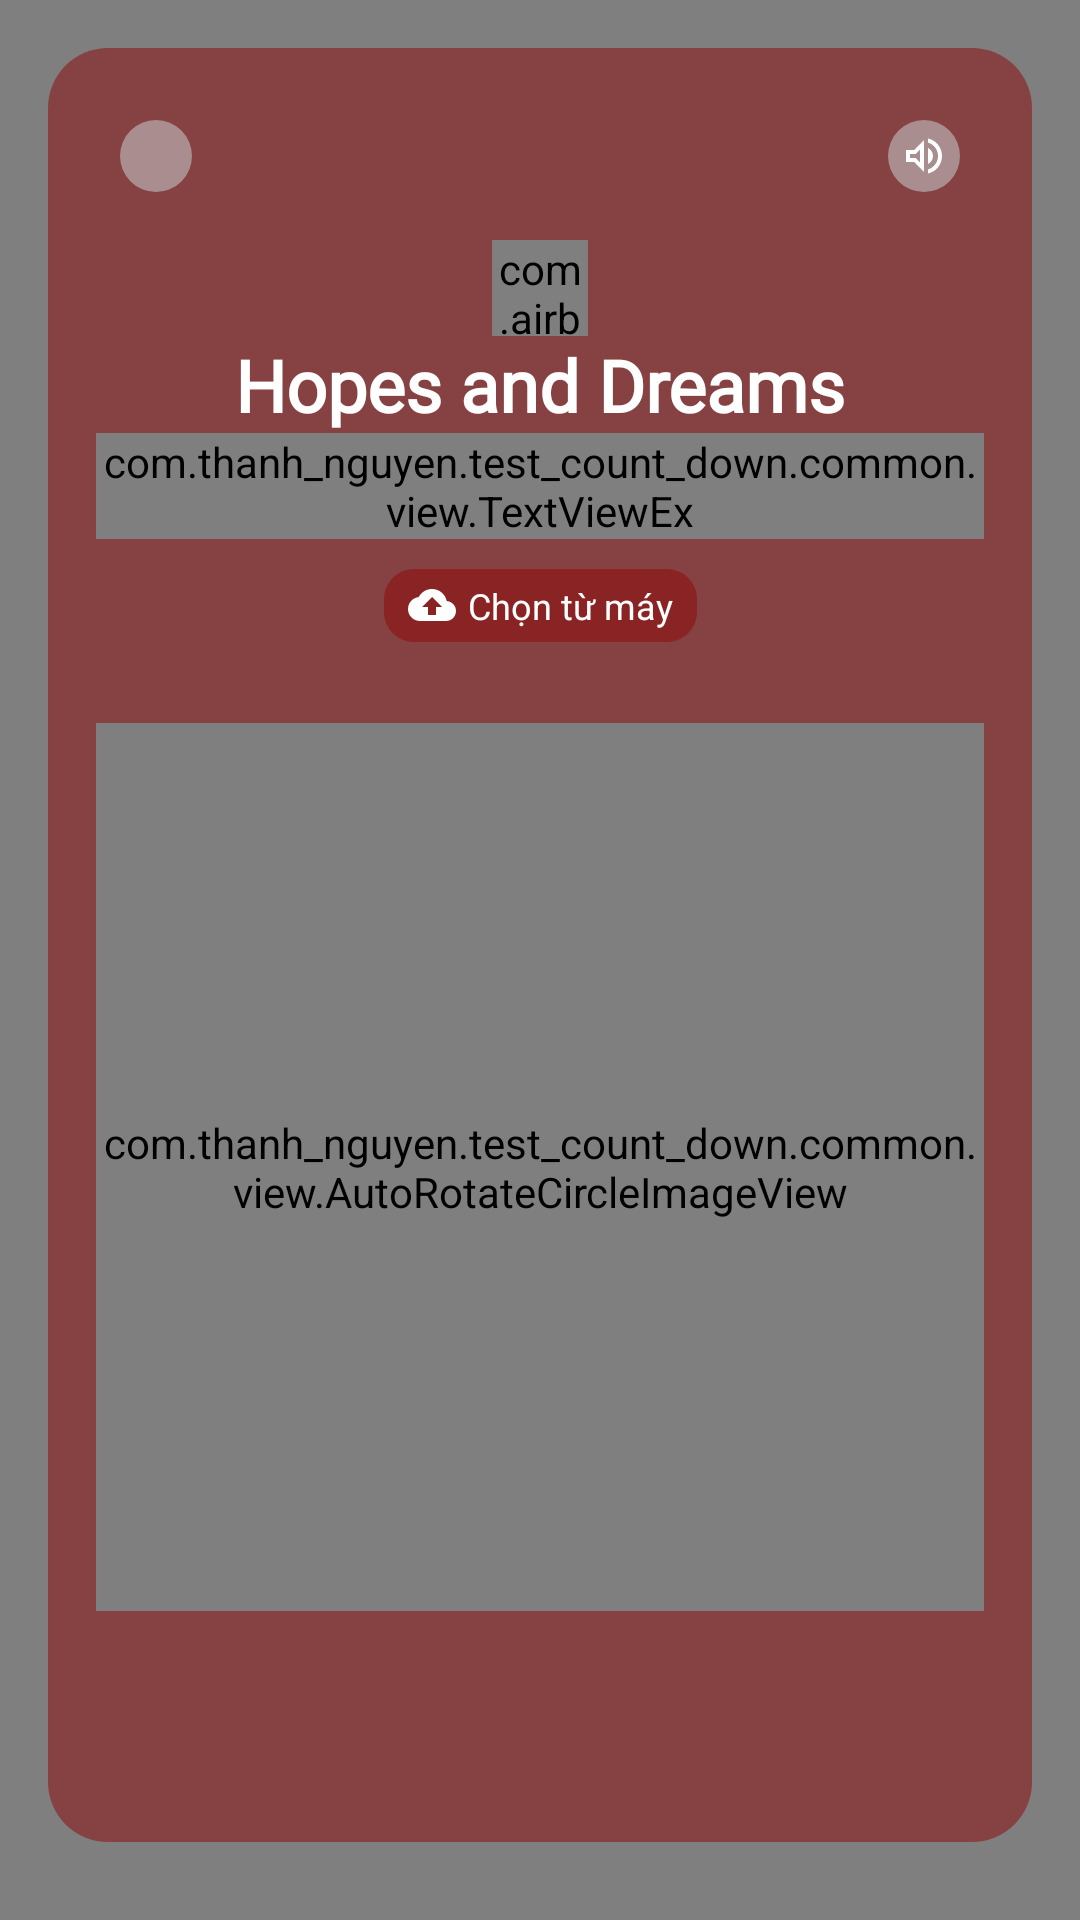

Icon click points for this 1080px×1920px phone screenshot, format [x,y]:
upload: [432,605]
volume on: [924,156]
